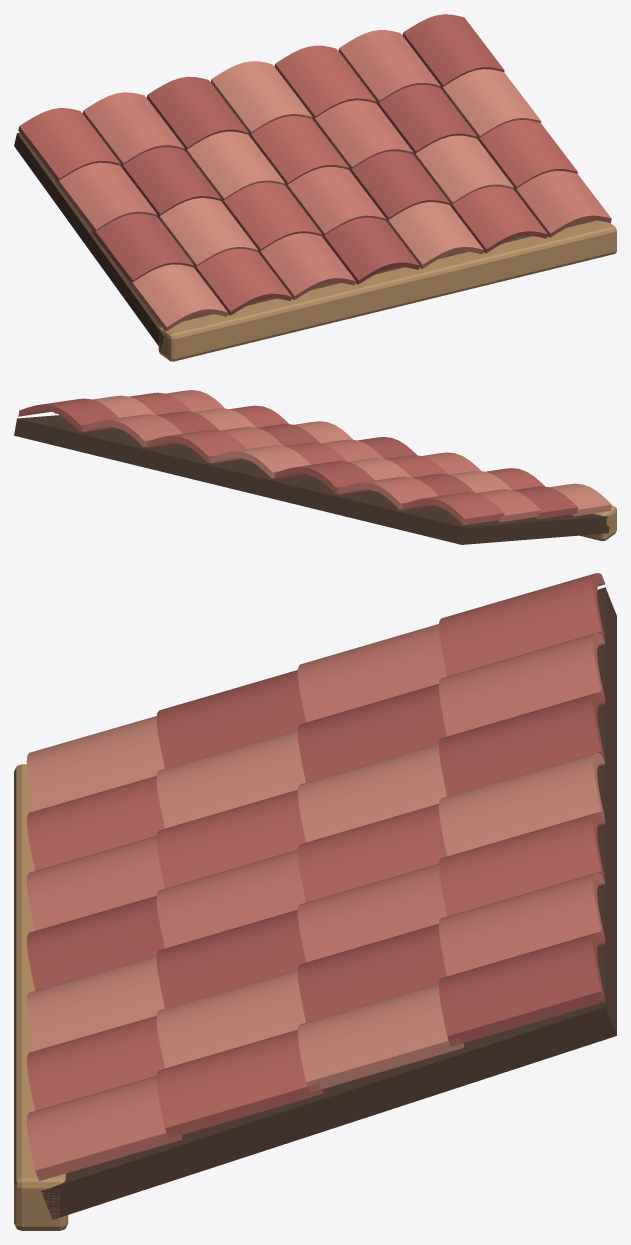
The model's file is canopy_terracotta_2m.glb.
3 views of the same model, one above another, from view 1: azimuth 30°, elevation 25°; view 2: azimuth 150°, elevation 25°; view 3: azimuth 270°, elevation 25° (orthographic). The views are drawn at different scales.
Parts seen in each view (by area): view 1: canopy_terracotta_2m; view 2: canopy_terracotta_2m; view 3: canopy_terracotta_2m.
Part boxes in pixels (x1=…): canopy_terracotta_2m: x1=14, y1=14, x2=616, y2=361; canopy_terracotta_2m: x1=14, y1=390, x2=616, y2=544; canopy_terracotta_2m: x1=14, y1=573, x2=616, y2=1230.
Size of the model in its own units: 2.2 by 0.6422 by 1.34.
